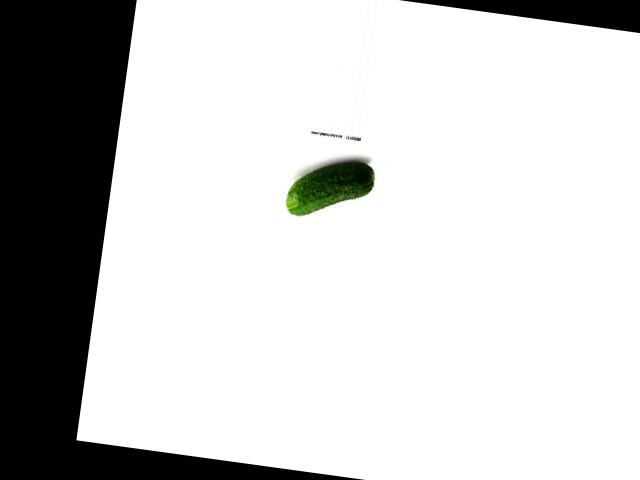cucumber: (285, 152, 376, 225)
